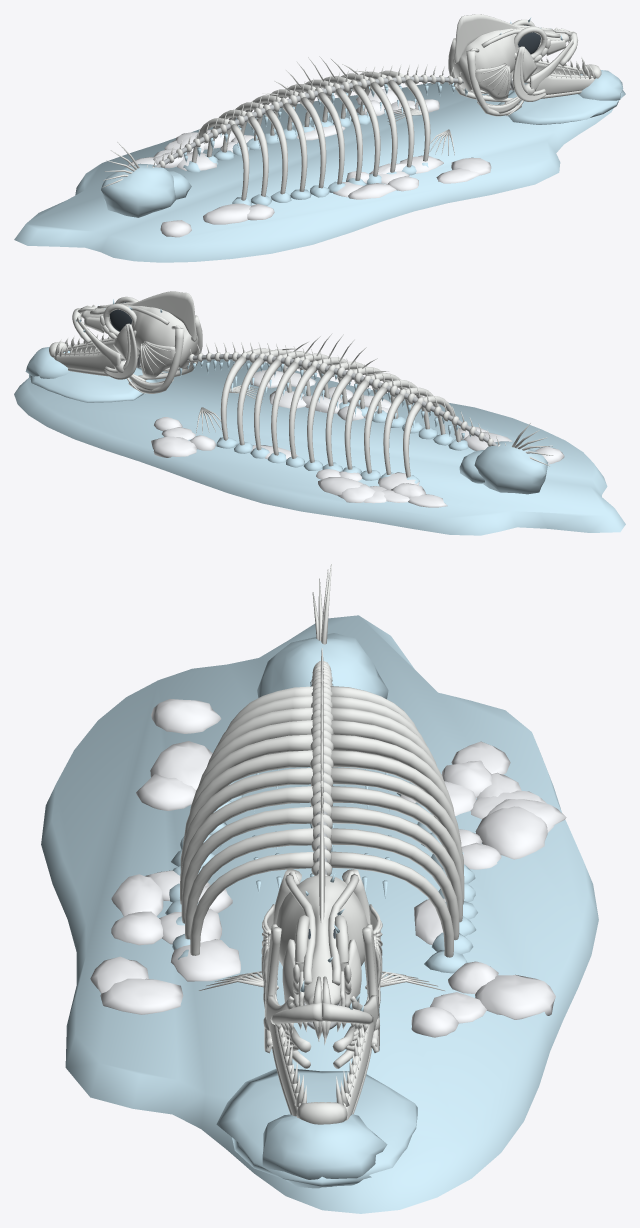
File: frostbones.glb
3 views of the same model, one above another, from view 1: azimuth 30°, elevation 25°; view 2: azimuth 150°, elevation 25°; view 3: azimuth 270°, elevation 25° (orthographic). The views are drawn at different scales.
Visible parts, largest first — view 1: ice, bones; view 2: ice, bones; view 3: ice, bones.
Part boxes in pixels (left/top/right/bottom): ice: left=14, top=17, right=625, bottom=262; bones: left=102, top=14, right=601, bottom=200; ice: left=14, top=299, right=625, bottom=535; bones: left=49, top=291, right=553, bottom=477; ice: left=41, top=615, right=598, bottom=1213; bones: left=180, top=564, right=464, bottom=1124.
Bounding box in the file's own units: 58.08 × 11.46 × 23.49.
